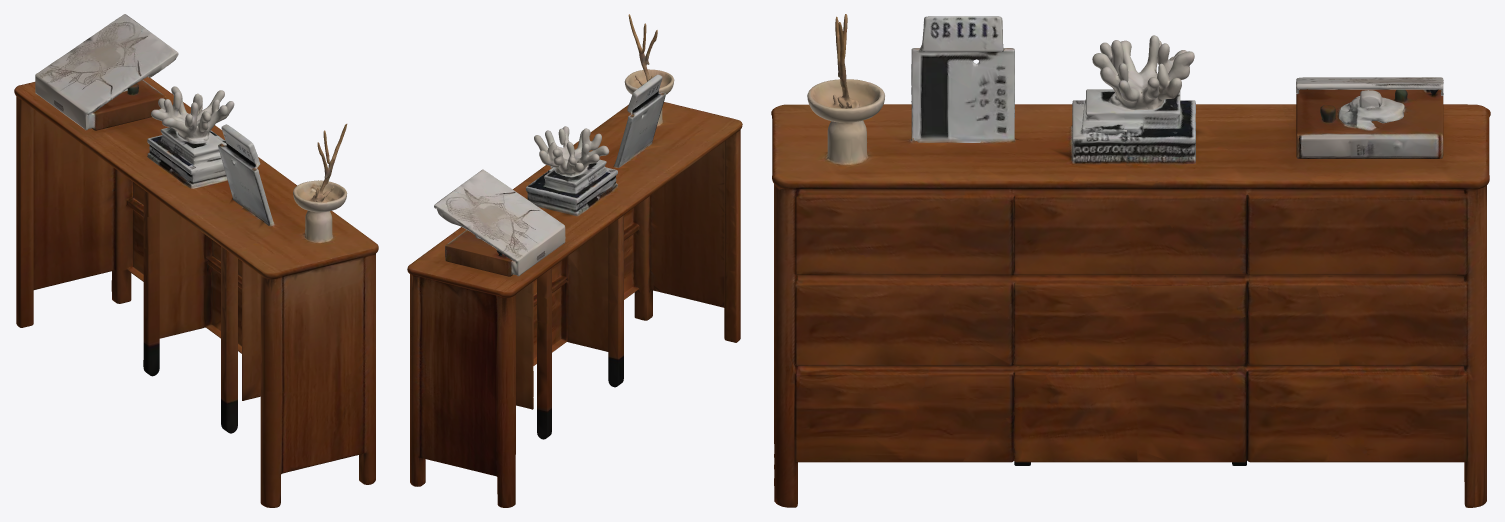
The model's file is B0GMW7FQ83.glb.
3 views of the same model, side by side, from view 1: azimuth 30°, elevation 25°; view 2: azimuth 150°, elevation 25°; view 3: azimuth 270°, elevation 25° (orthographic). The views are drawn at different scales.
Visible parts, largest first — view 1: tripo_node_d0067253-bbf8-4eeb-9148-5002a4ffe001; view 2: tripo_node_d0067253-bbf8-4eeb-9148-5002a4ffe001; view 3: tripo_node_d0067253-bbf8-4eeb-9148-5002a4ffe001.
Boxes of the visible parts, x1,y1,x2,y2 form: tripo_node_d0067253-bbf8-4eeb-9148-5002a4ffe001: (14,14,378,507); tripo_node_d0067253-bbf8-4eeb-9148-5002a4ffe001: (407,14,742,507); tripo_node_d0067253-bbf8-4eeb-9148-5002a4ffe001: (771,14,1490,507).
Size of the model in its own units: 0.2588 by 0.7362 by 1.
1 material, 1 textured.
